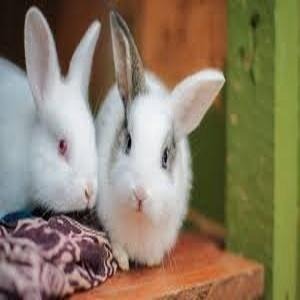rabbit: (0, 6, 224, 296)
